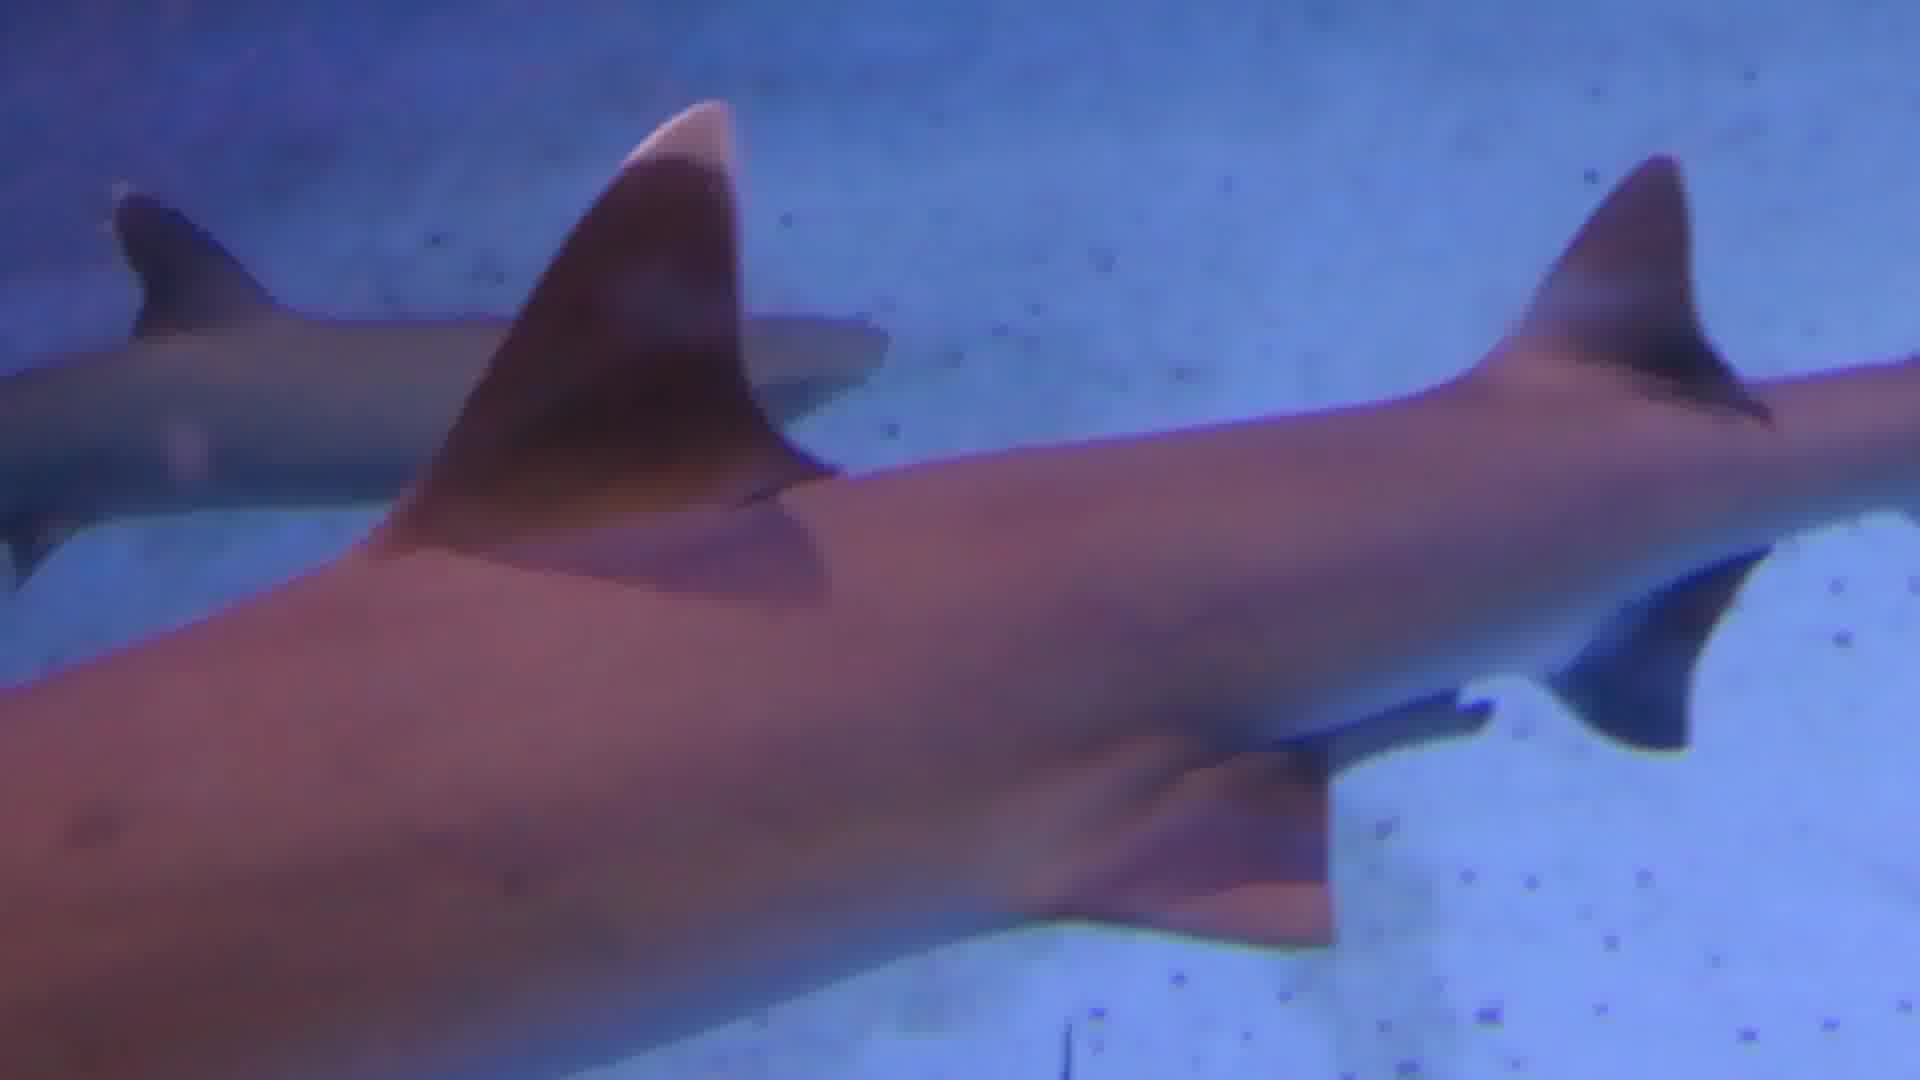Triaenodon obesus: (1, 105, 1920, 1080)
